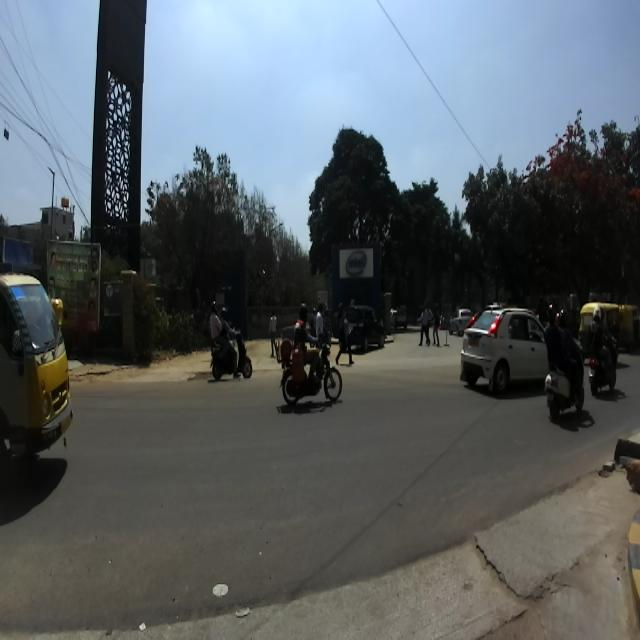car ahead at: (0, 264, 78, 474), (461, 292, 541, 407)
motorcycle ahead at: (273, 336, 345, 410), (541, 356, 594, 422), (202, 335, 260, 389)
